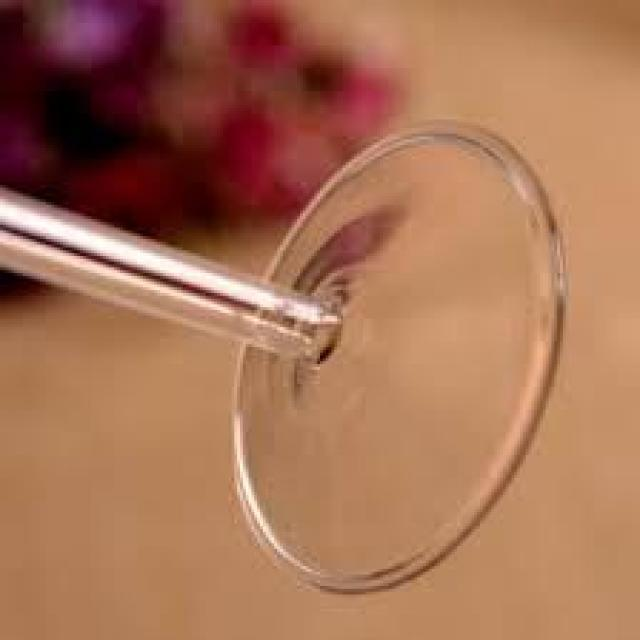glass: (0, 109, 574, 601)
